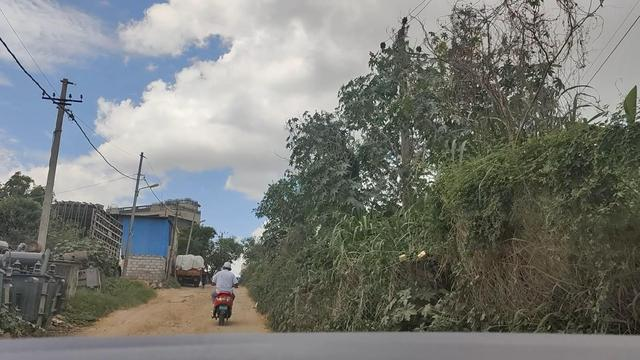HMV: (173, 252, 206, 292)
UnsurfacedRoad: (124, 295, 219, 337)
